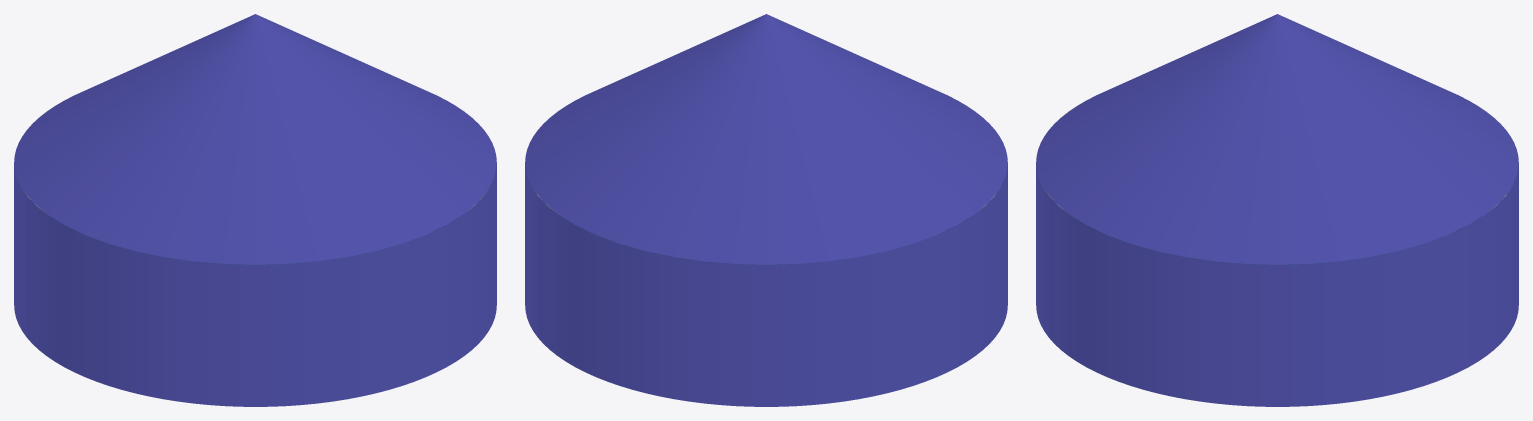
Rendered from sky-cl2.glb.
3 views of the same model, side by side, from view 1: azimuth 30°, elevation 25°; view 2: azimuth 150°, elevation 25°; view 3: azimuth 270°, elevation 25° (orthographic).
Parts seen in each view (by area): view 1: sky-cl2; view 2: sky-cl2; view 3: sky-cl2.
Part boxes in pixels (bbox=[...]): sky-cl2: bbox=[14, 14, 496, 406]; sky-cl2: bbox=[525, 14, 1007, 406]; sky-cl2: bbox=[1036, 14, 1518, 406].
Bounding box in the file's own units: 2 × 1.4 × 2.
Materials: 4 (4 with a texture image).
